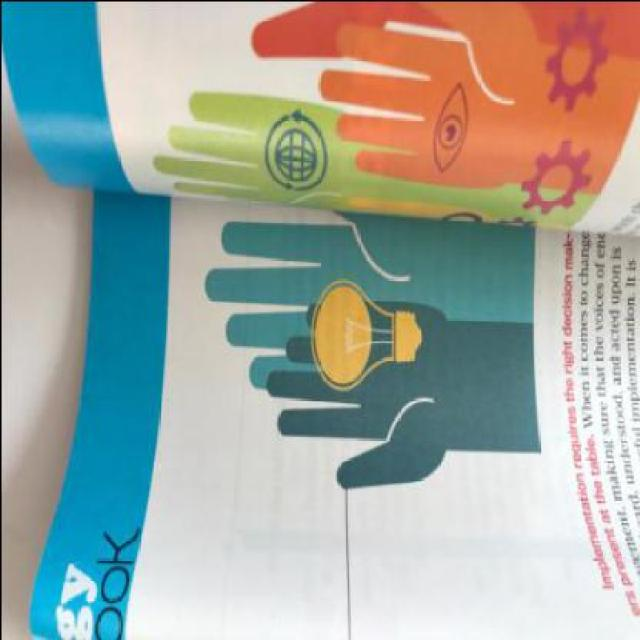PAPER: (1, 1, 638, 638), (27, 190, 638, 638), (1, 2, 638, 235)
